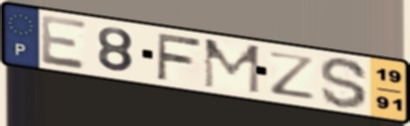8: (96, 26, 137, 74)
E: (39, 13, 89, 72)
F: (154, 31, 204, 82)
M: (201, 37, 262, 96)
S: (318, 55, 371, 111)
Z: (266, 49, 319, 101)
